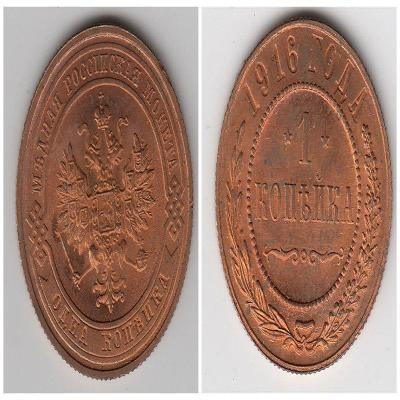numismatics: (16, 25, 193, 378), (216, 19, 391, 372)
